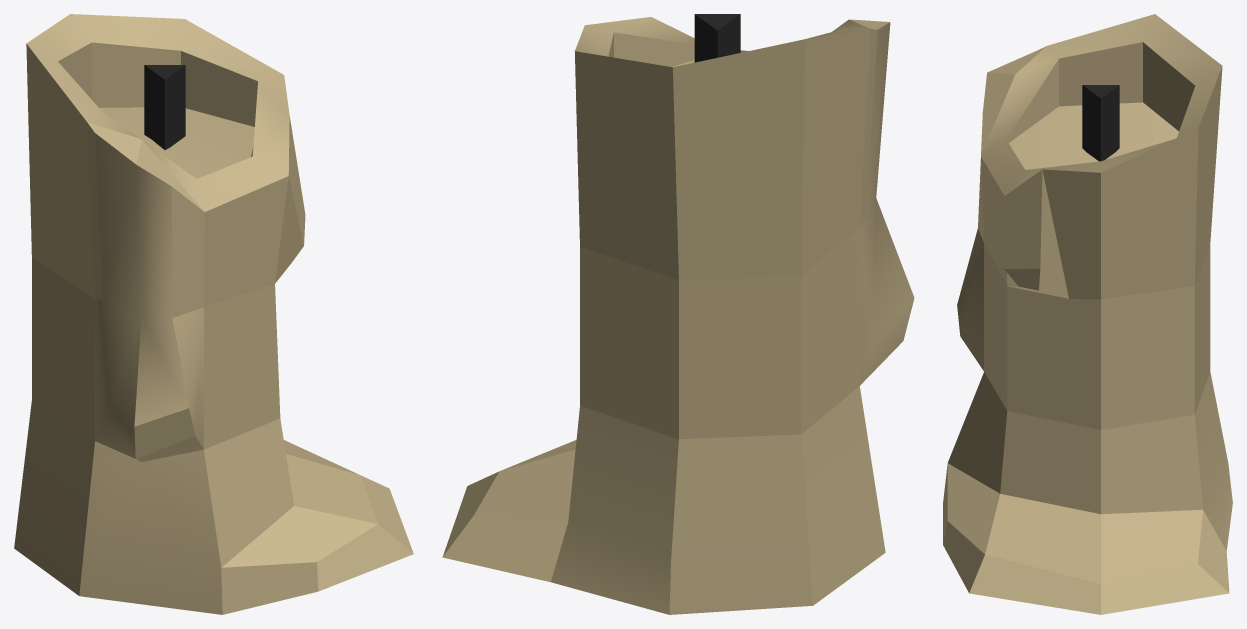
The model's file is Candle.fbx.
3 renders of one model, left to right at view 1: azimuth 30°, elevation 25°; view 2: azimuth 150°, elevation 25°; view 3: azimuth 270°, elevation 25°, orthographic. The views are drawn at different scales.
Visible parts, largest first — view 1: Candle; view 2: Candle; view 3: Candle.
Boxes of the visible parts, x1,y1,x2,y2 form: Candle: (14, 14, 413, 614); Candle: (442, 14, 914, 614); Candle: (943, 14, 1232, 614).
Size of the model in its own units: 2.69 by 3.79 by 2.19.
